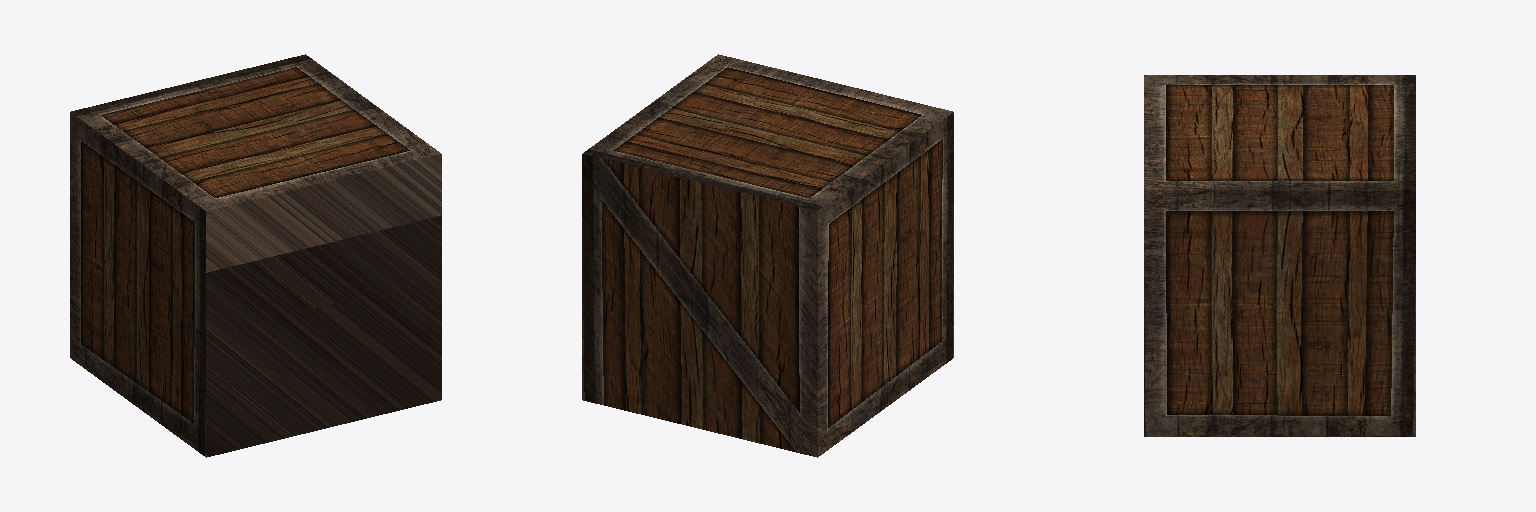
The picture shows the model from 3 angles: view 1: azimuth 30°, elevation 25°; view 2: azimuth 150°, elevation 25°; view 3: azimuth 270°, elevation 25°; orthographic projection.
Visible parts, largest first — view 1: Cube; view 2: Cube; view 3: Cube.
Boxes of the visible parts, box(x1,y1,x2,y2) form: Cube: box(70, 54, 441, 457); Cube: box(582, 54, 953, 457); Cube: box(1144, 75, 1415, 436).
Bounding box in the file's own units: 2 × 2 × 2.
1 materials, 1 textured.